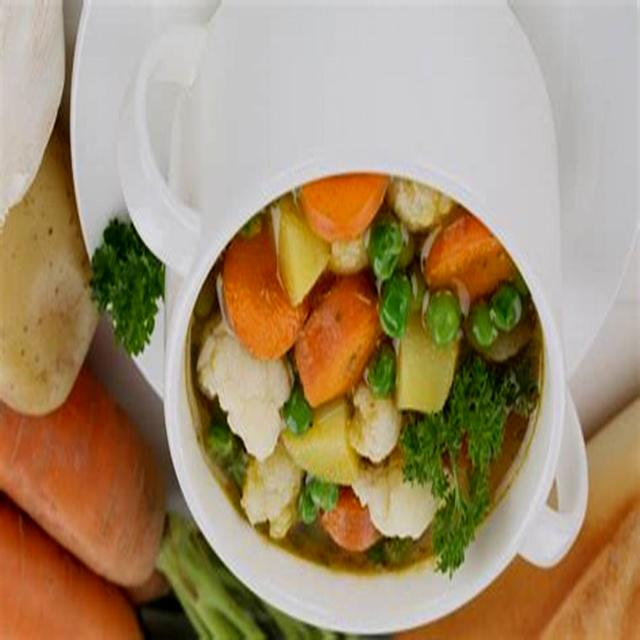sop: (197, 172, 534, 575)
